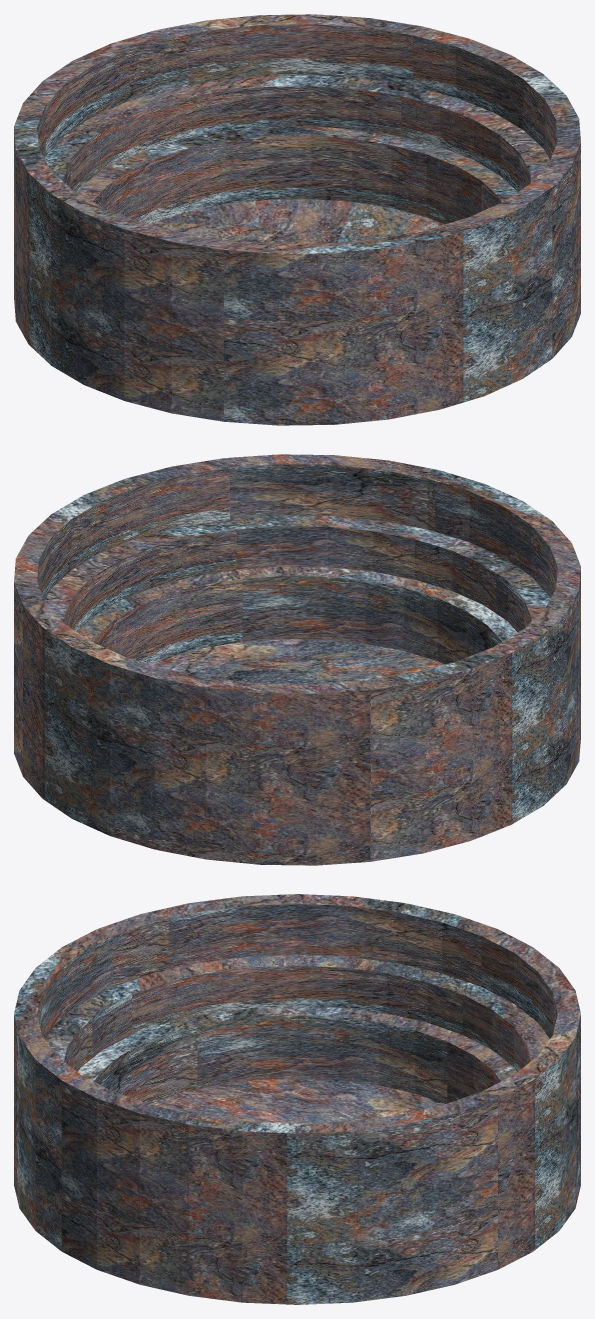
File: ironField.fbx
3 renders of one model, top to bottom at view 1: azimuth 30°, elevation 25°; view 2: azimuth 150°, elevation 25°; view 3: azimuth 270°, elevation 25°, orthographic.
Parts seen in each view (by area): view 1: 圓柱體; view 2: 圓柱體; view 3: 圓柱體.
Boxes of the visible parts, left/top/right/bottom form: 圓柱體: left=14, top=14, right=580, bottom=425; 圓柱體: left=14, top=454, right=580, bottom=865; 圓柱體: left=14, top=894, right=580, bottom=1304.
Bounding box in the file's own units: 600 × 200 × 600.
1 material, 1 textured.
